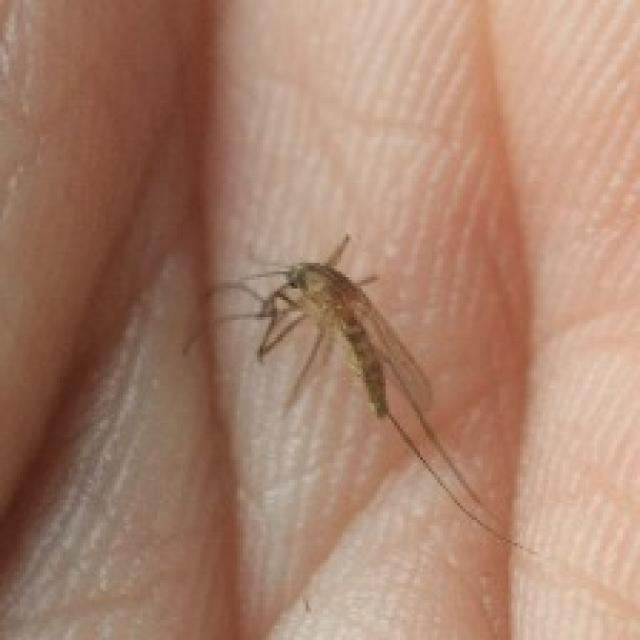culex: (186, 229, 537, 554)
